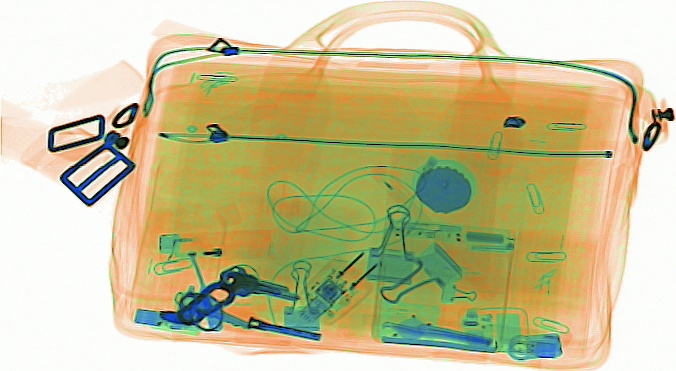lighter: (157, 227, 273, 262)
